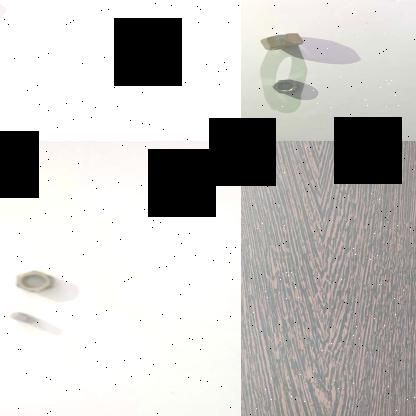NUTS: (244, 27, 308, 57), (5, 270, 60, 296), (263, 76, 311, 102), (2, 306, 39, 332)
